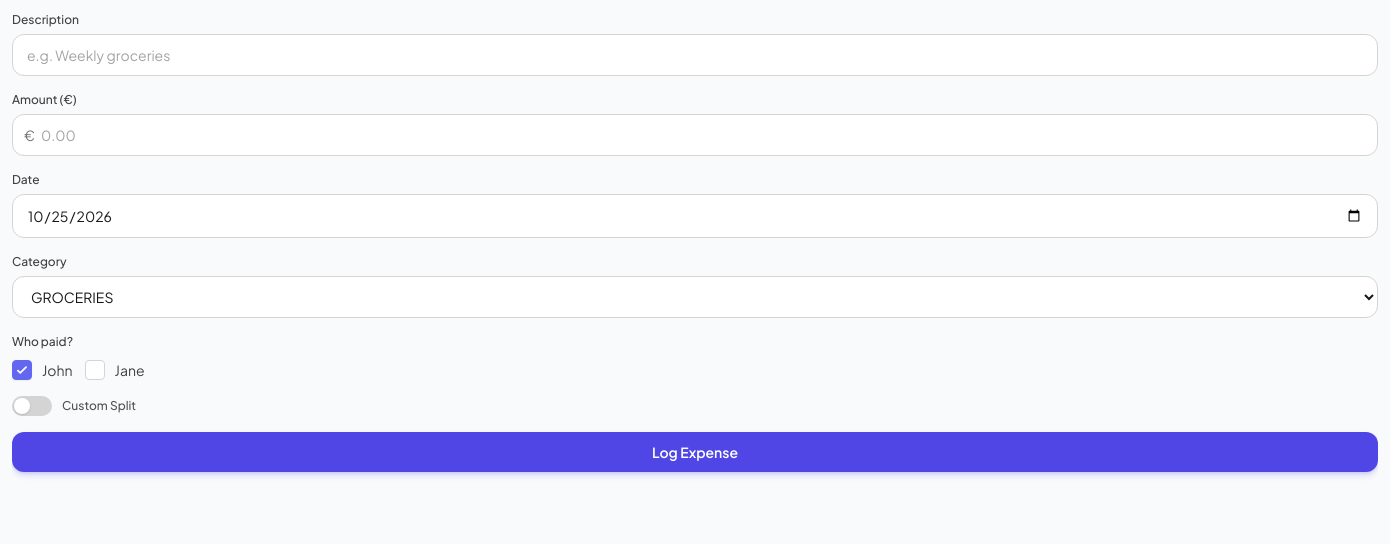
Test: ExpenseForm.svelte — Expense Creation Form › validates description field
What coordinates should you click on to do the following:
click the button "Log Expense"
I would click on:
 (695, 452)
Its box is [12,432,1378,472].
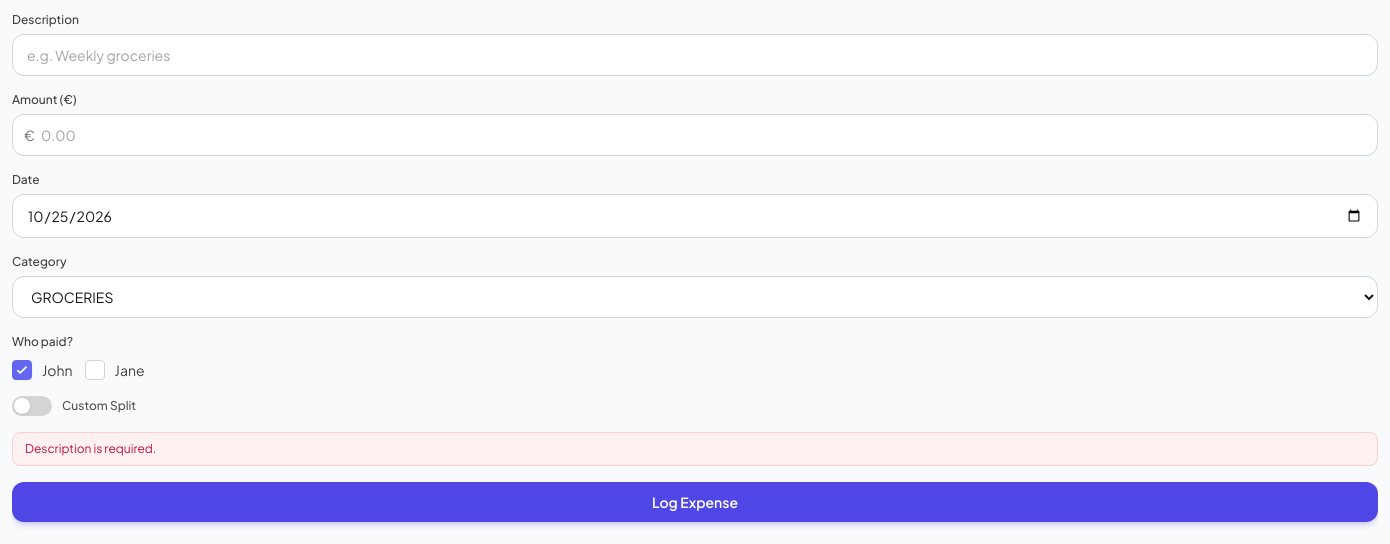
Expected: the text "Description is required." is shown, [12,432,1378,466]
